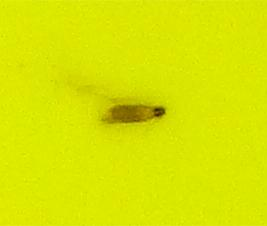Trichoptera: (100, 100, 167, 126)
